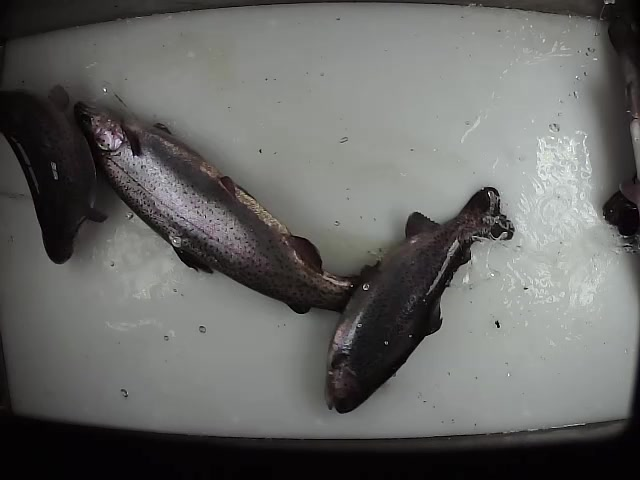fish: (71, 96, 377, 315), (324, 183, 517, 418), (1, 82, 110, 265)
